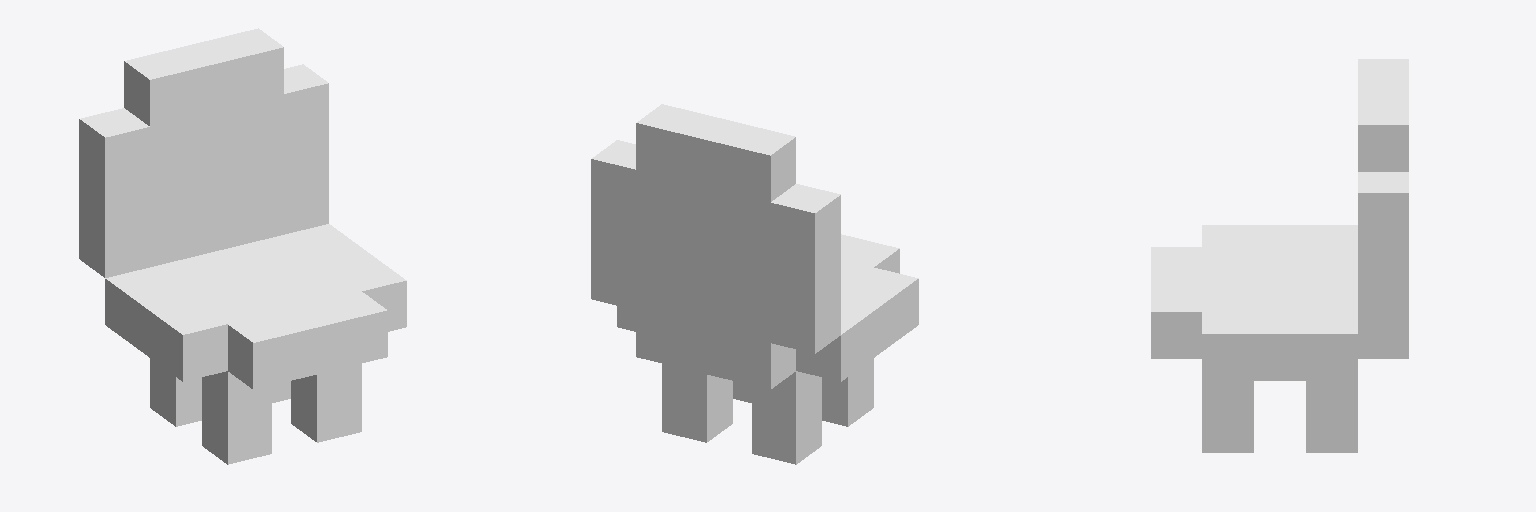
File: tavern-46-chair.obj
3 views of the same model, side by side, from view 1: azimuth 30°, elevation 25°; view 2: azimuth 150°, elevation 25°; view 3: azimuth 270°, elevation 25° (orthographic).
Parts seen in each view (by area): view 1: chair; view 2: chair; view 3: chair.
Boxes of the visible parts, box(x1,y1,x2,y2) form: chair: box(79, 28, 406, 464); chair: box(591, 104, 918, 464); chair: box(1151, 59, 1408, 452).
Bounding box in the file's own units: 0.5 × 0.7 × 0.5.